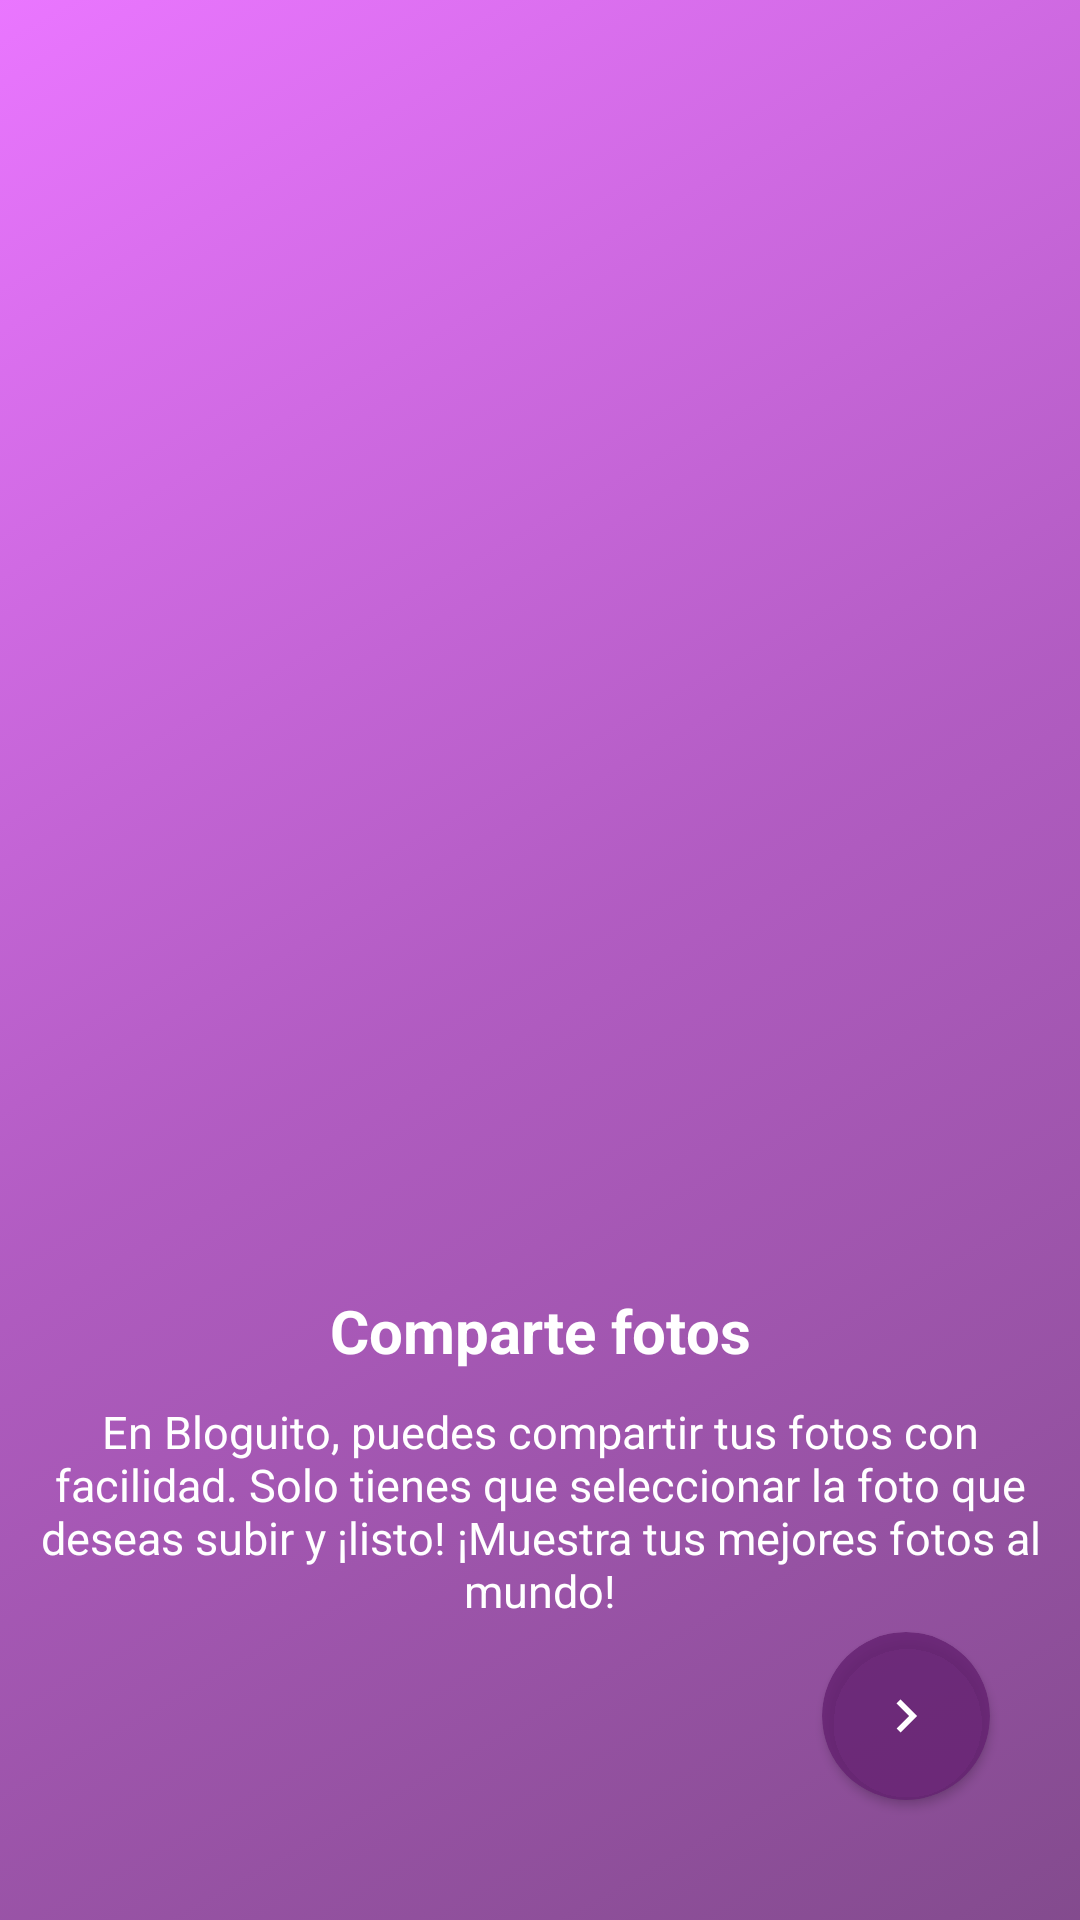

Locate icon controls on the screen. Image size 1080px x 1920px, boxes as BBox(x1, y1, x2, y2).
keyboard arrow right: BBox(896, 1699, 917, 1733)
